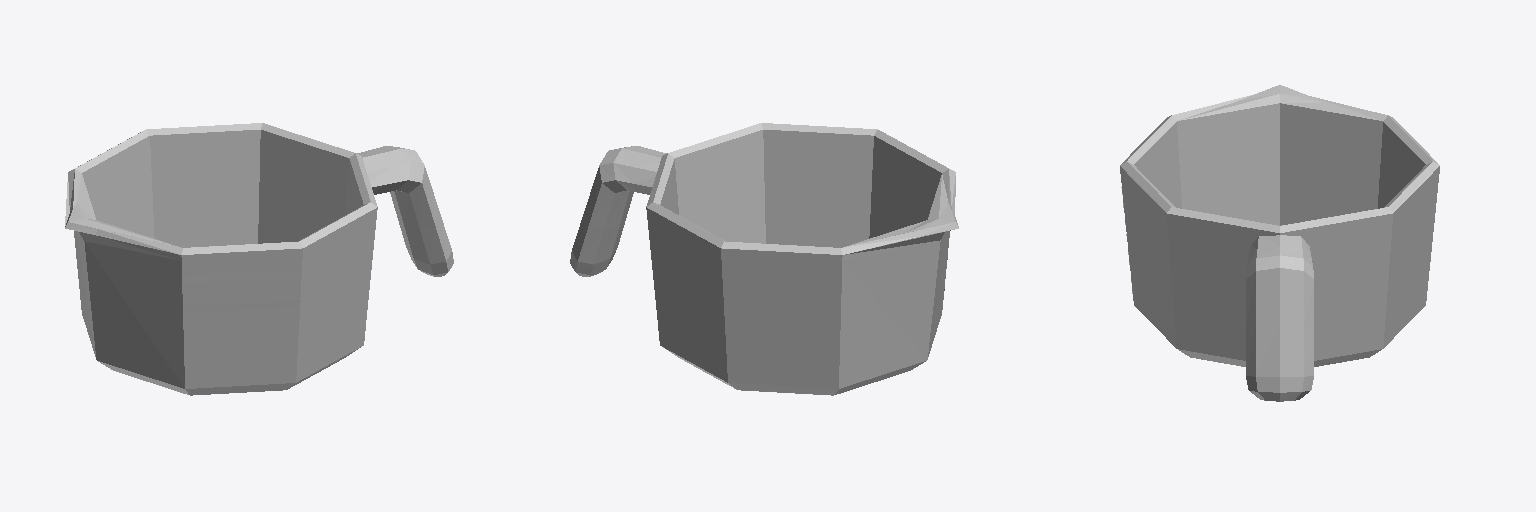
The model's file is mcup_measuring_cup_large.obj.
3 views of the same model, side by side, from view 1: azimuth 30°, elevation 25°; view 2: azimuth 150°, elevation 25°; view 3: azimuth 270°, elevation 25° (orthographic).
Parts seen in each view (by area): view 1: mcup_measuring_cup_large_Cylinder.012; view 2: mcup_measuring_cup_large_Cylinder.012; view 3: mcup_measuring_cup_large_Cylinder.012.
Part boxes in pixels (x1,y1,x2,y2): mcup_measuring_cup_large_Cylinder.012: (65, 123, 453, 395); mcup_measuring_cup_large_Cylinder.012: (570, 123, 958, 395); mcup_measuring_cup_large_Cylinder.012: (1120, 85, 1439, 401).
Size of the model in its own units: 5.83 by 2.32 by 4.23.